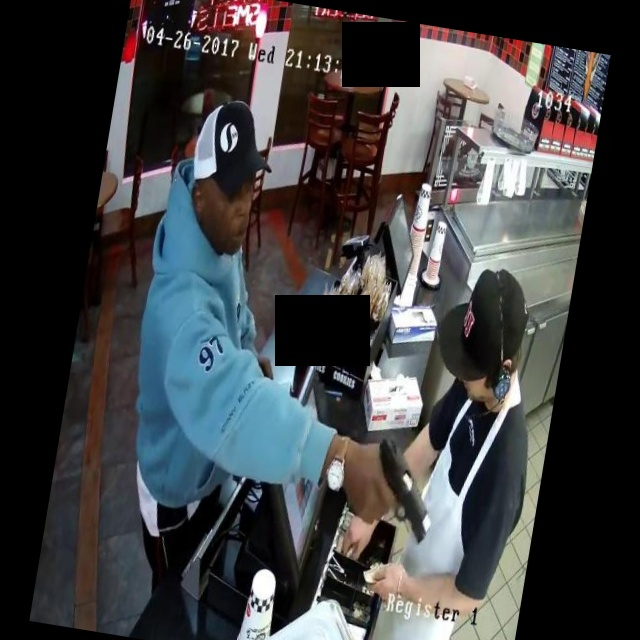gun: (343, 417, 457, 557)
